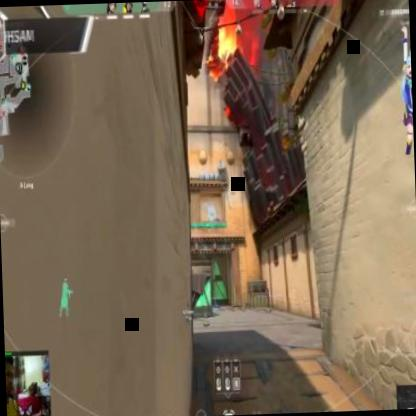enemy: (209, 214, 216, 244)
enemy_head: (210, 214, 214, 220)
